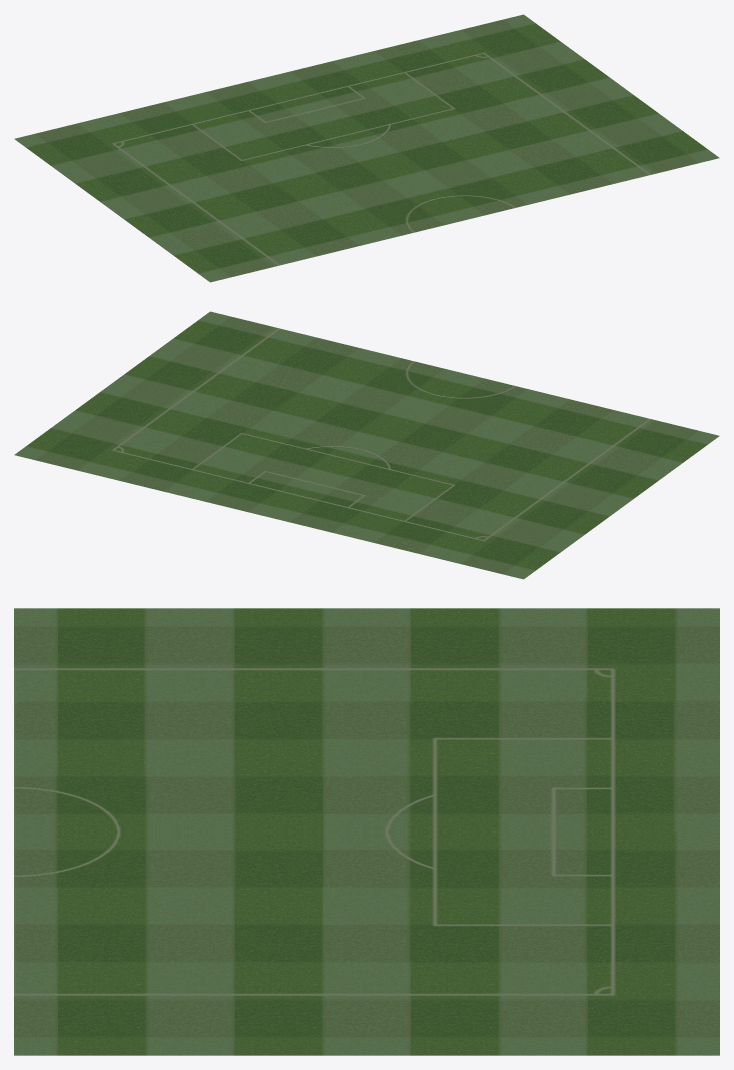
The picture shows the model from 3 angles, top to bottom: view 1: azimuth 30°, elevation 25°; view 2: azimuth 150°, elevation 25°; view 3: azimuth 270°, elevation 25°; orthographic projection. The views are drawn at different scales.
Bounding box in the file's own units: 92.4 × 0 × 61.6.
Materials: 4 (4 with a texture image).
